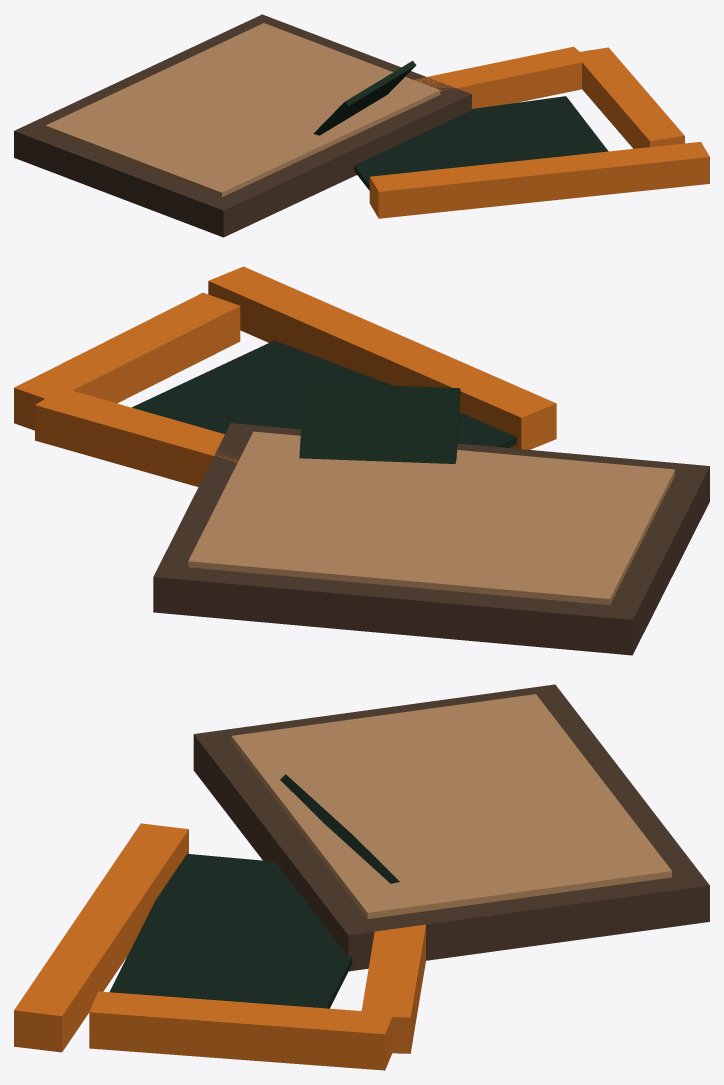
File: fallen_frames.glb
3 views of the same model, one above another, from view 1: azimuth 30°, elevation 25°; view 2: azimuth 150°, elevation 25°; view 3: azimuth 270°, elevation 25° (orthographic). The views are drawn at different scales.
Parts seen in each view (by area): view 1: fallen_frames; view 2: fallen_frames; view 3: fallen_frames.
Part boxes in pixels (x1,y1,x2,y2): fallen_frames: (14,14,709,237); fallen_frames: (14,266,709,655); fallen_frames: (14,684,709,1070).
Size of the model in its own units: 0.8271 by 0.1085 by 0.6954.
